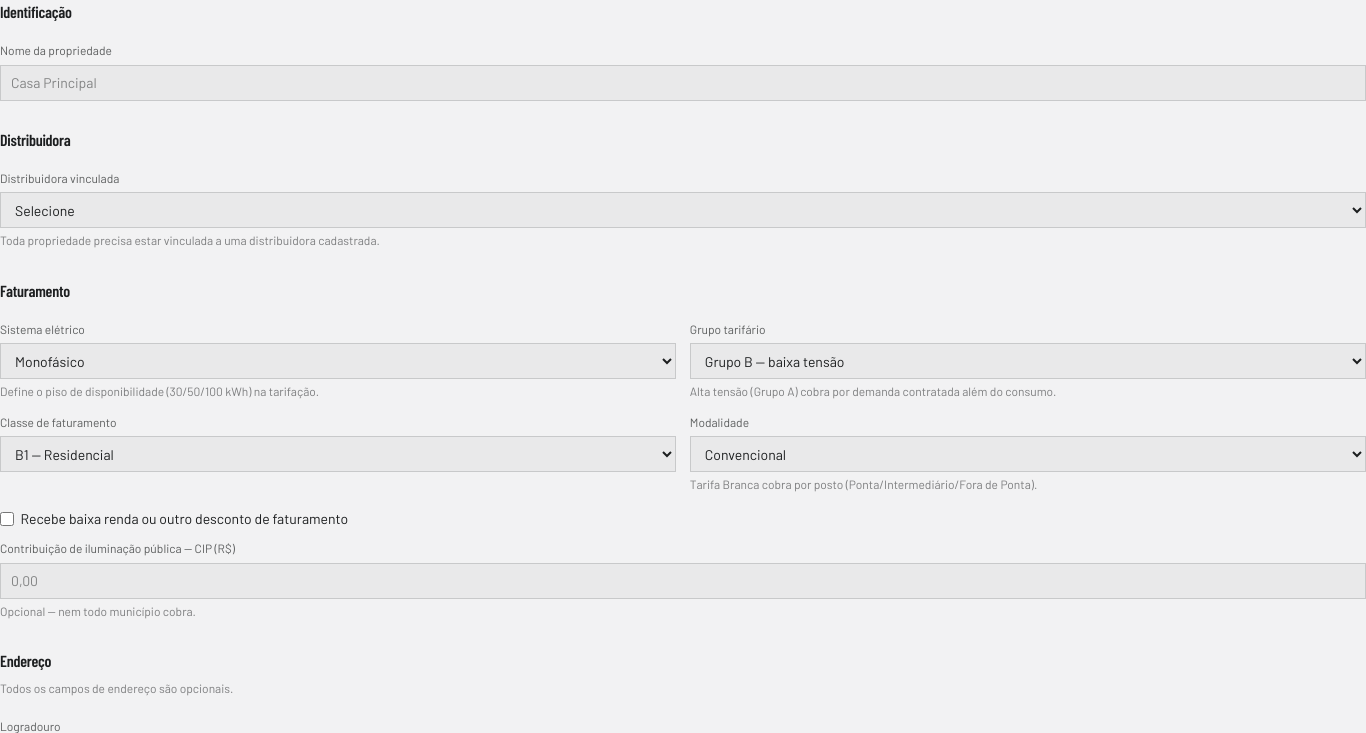
Test case: PropertyForm — Grupo A › mostra os campos do Grupo A e esconde a classe de faturamento ao trocar o grupo tarifário
The width and height of the screenshot is (1366, 733).
Expected: the dropdown labelled "Classe de faturamento" is shown, [0,436,676,472]
Expected: the field labelled "subgrupo" is not shown
Select "Grupo A — alta tensão" in the dropdown labelled "Grupo tarifário" at (1028, 361), box [690,343,1365,379]
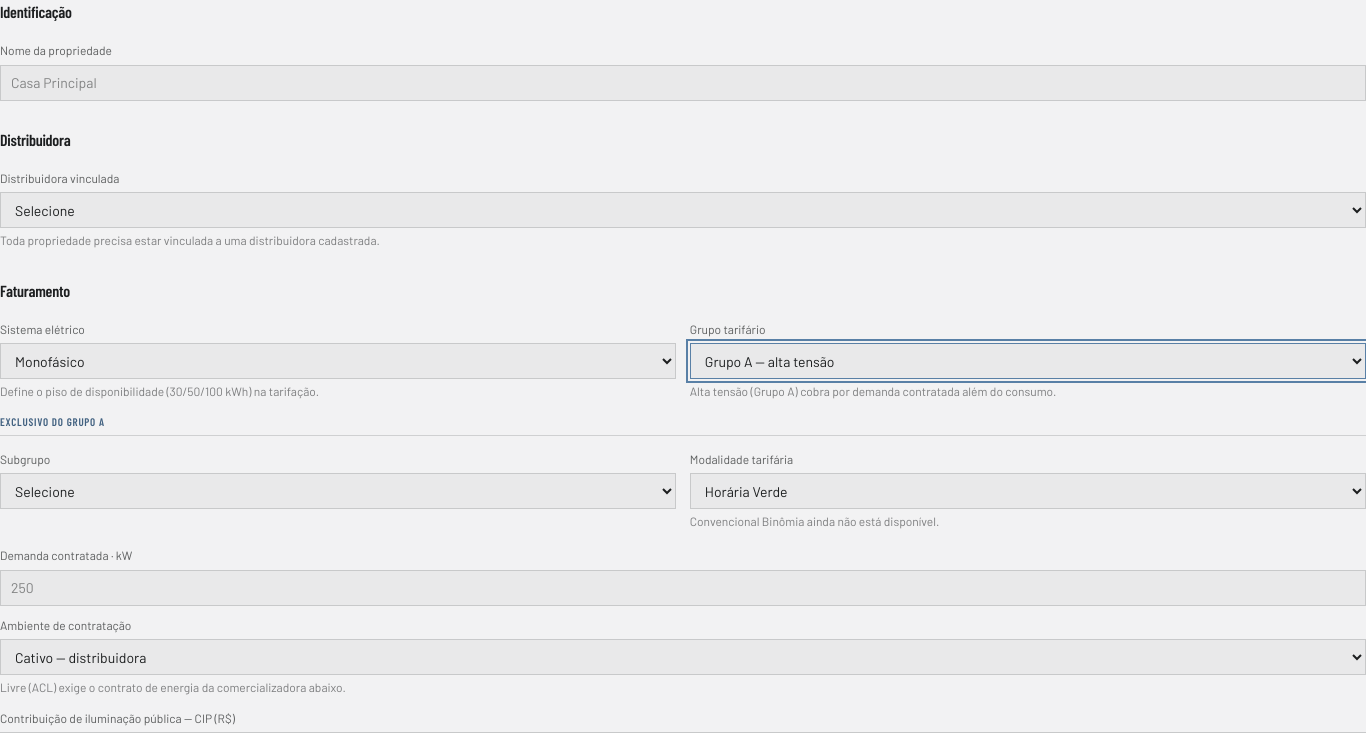
Expected: the label labelled "Classe de faturamento" is gone
Expected: the dropdown labelled "Subgrupo" is shown, [0,473,676,509]
Expected: the dropdown labelled "Modalidade tarifária" is shown, [690,473,1365,509]
